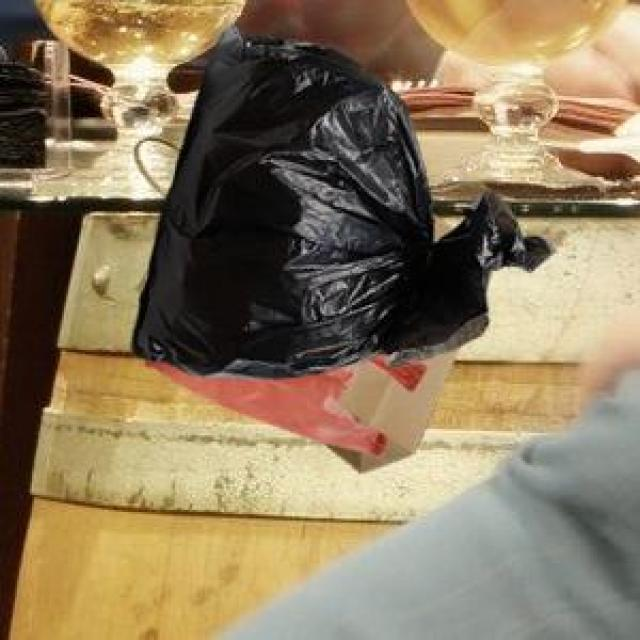miscellaneous trash: (128, 21, 550, 373)
paper: (130, 132, 454, 467)
